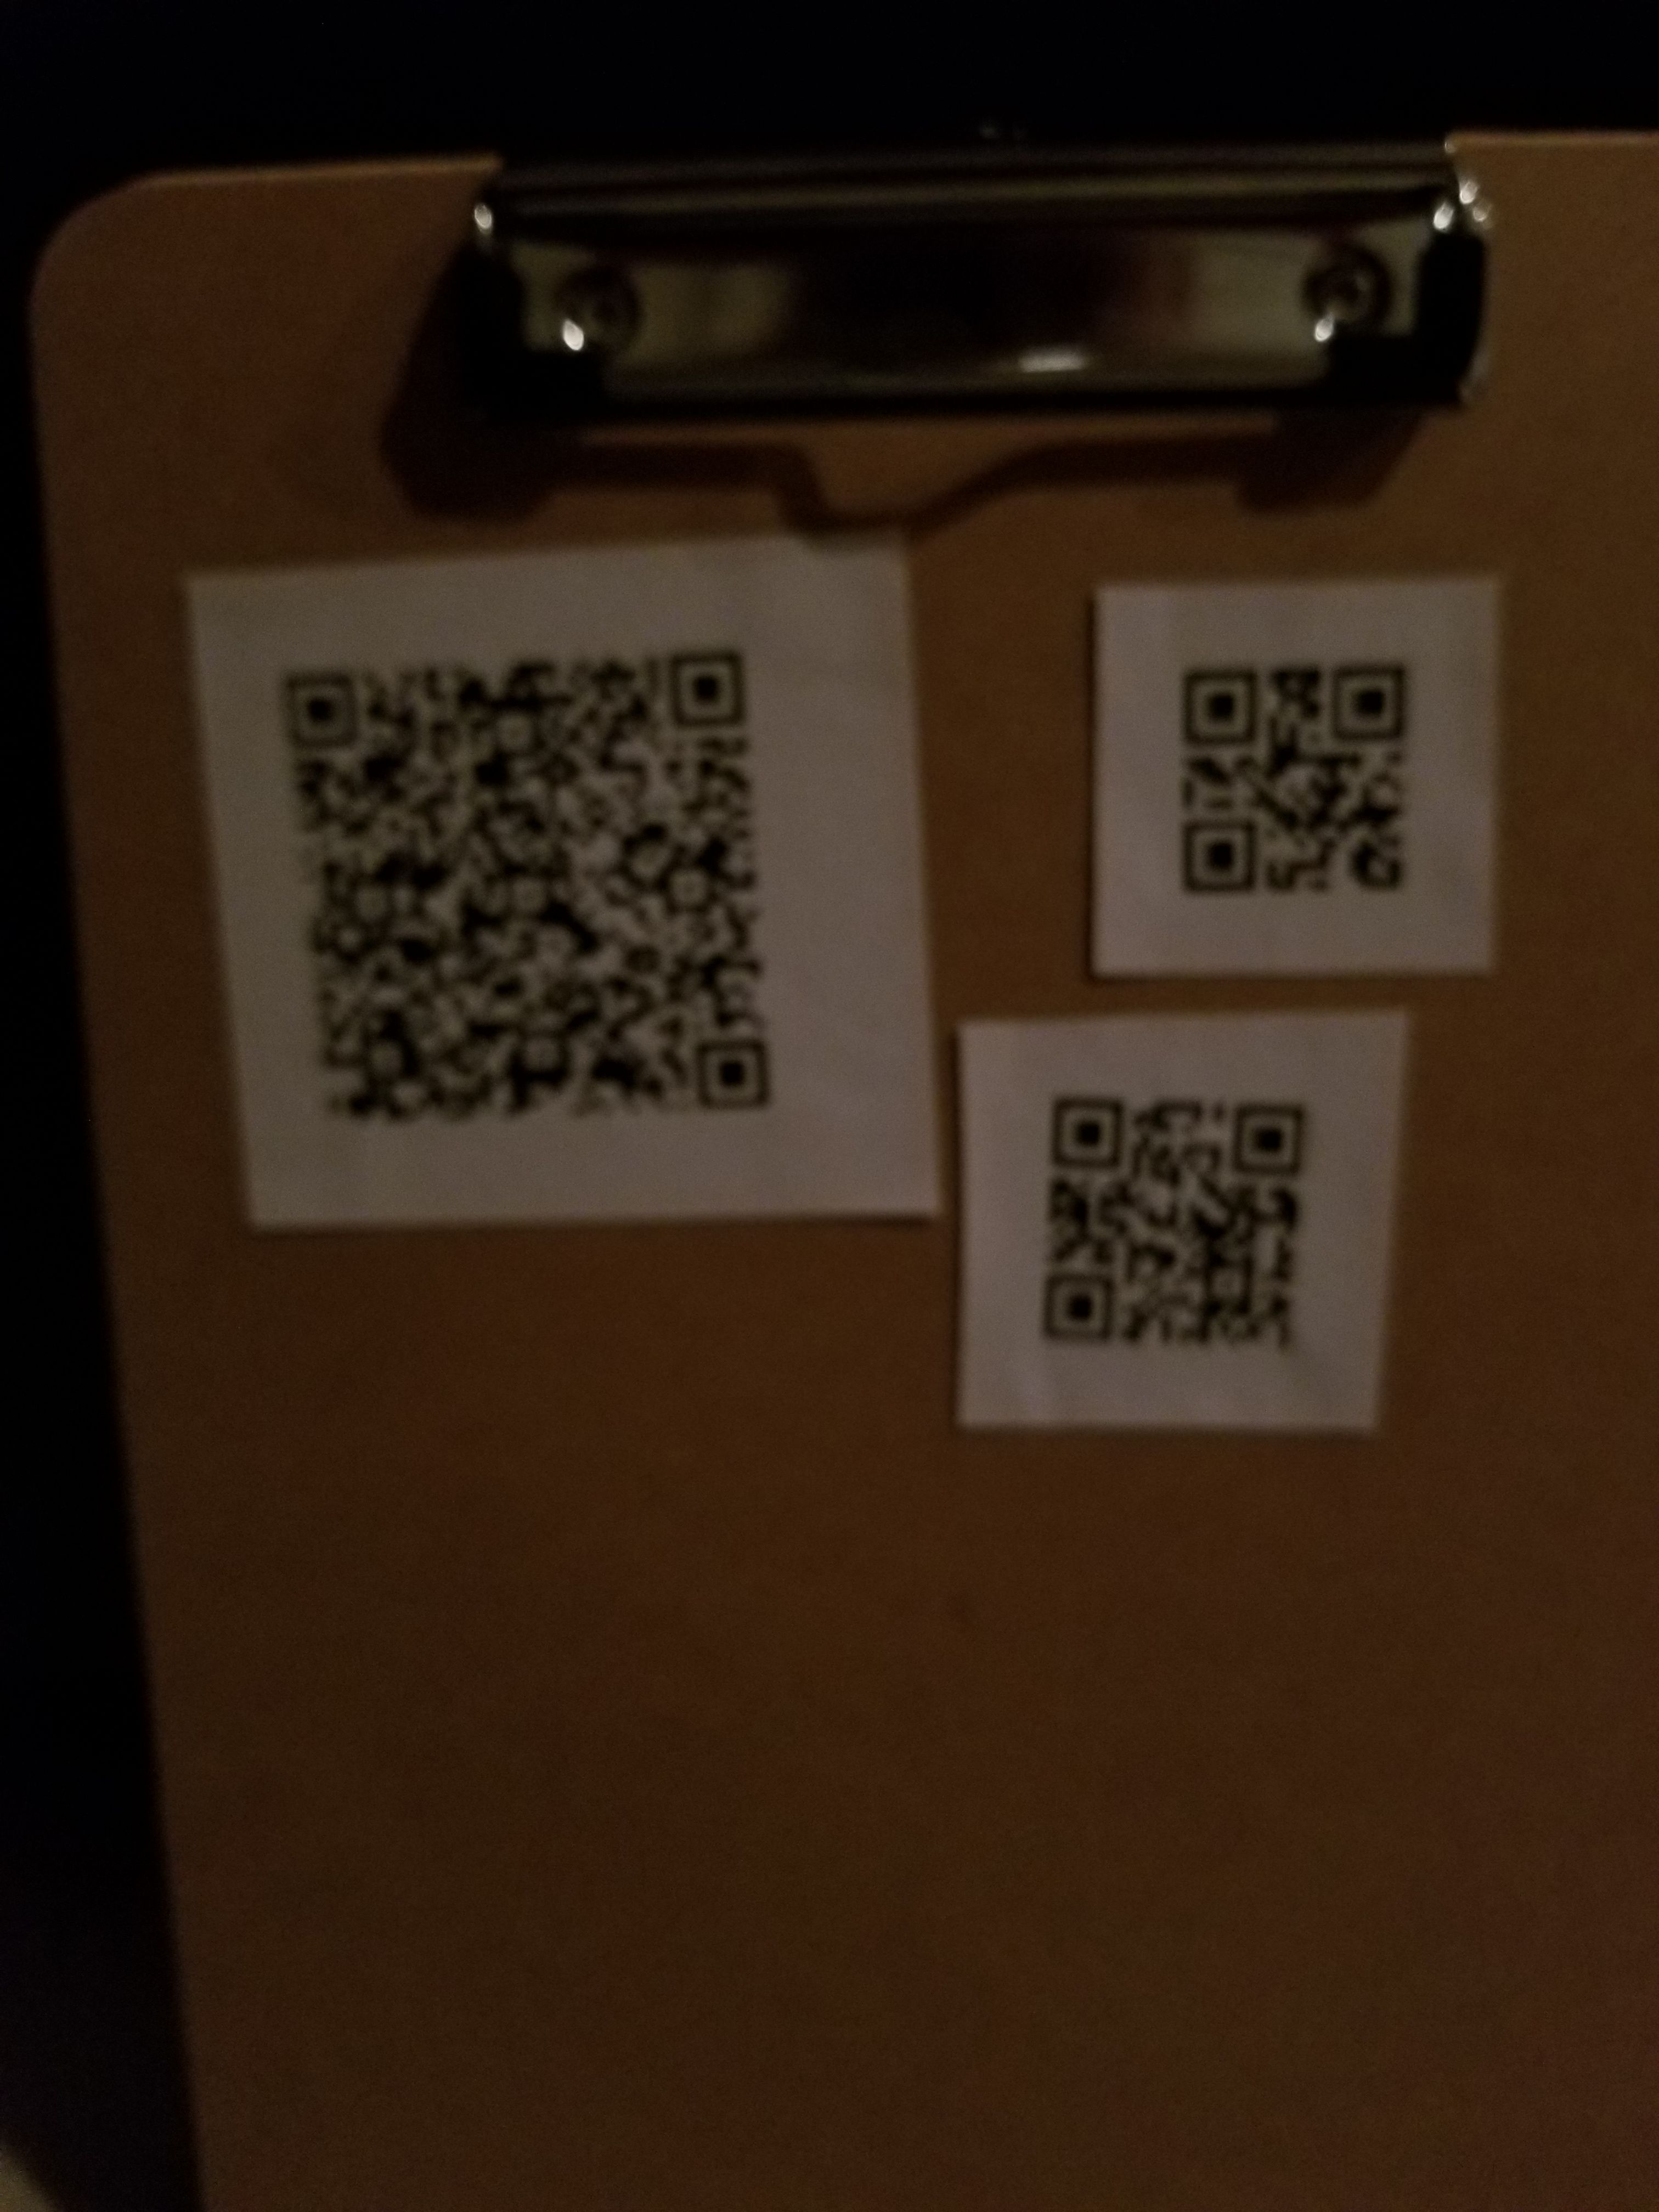QR_CODE: (244, 550, 817, 1146), (1002, 1033, 1342, 1407), (1131, 611, 1466, 920)
